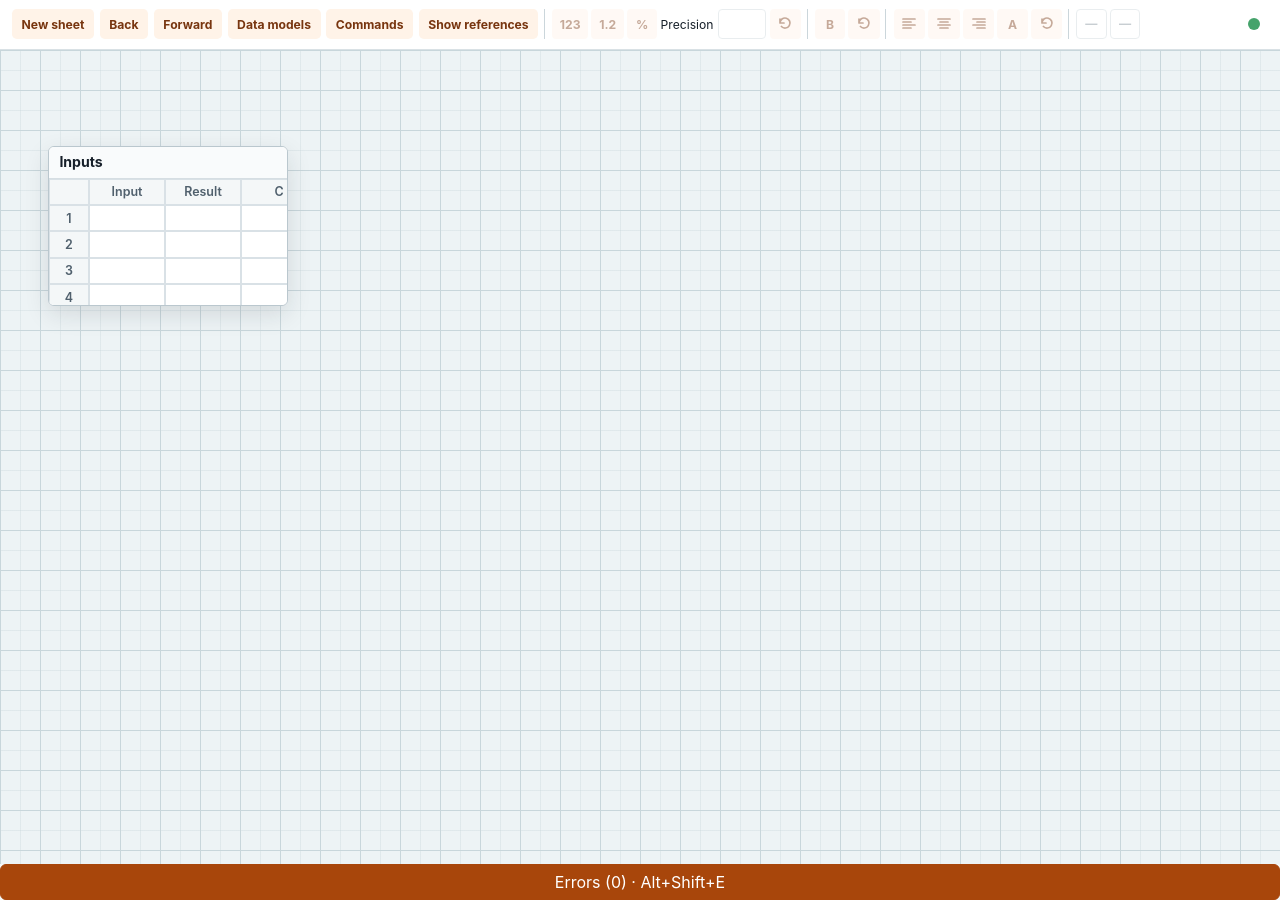
App grid clipboard integration › cancels an earlier pending cut when a calculated selection rejects a new cut
Click the cell named "Inputs A1 empty cell" at (127, 218), box [89,205,165,231]
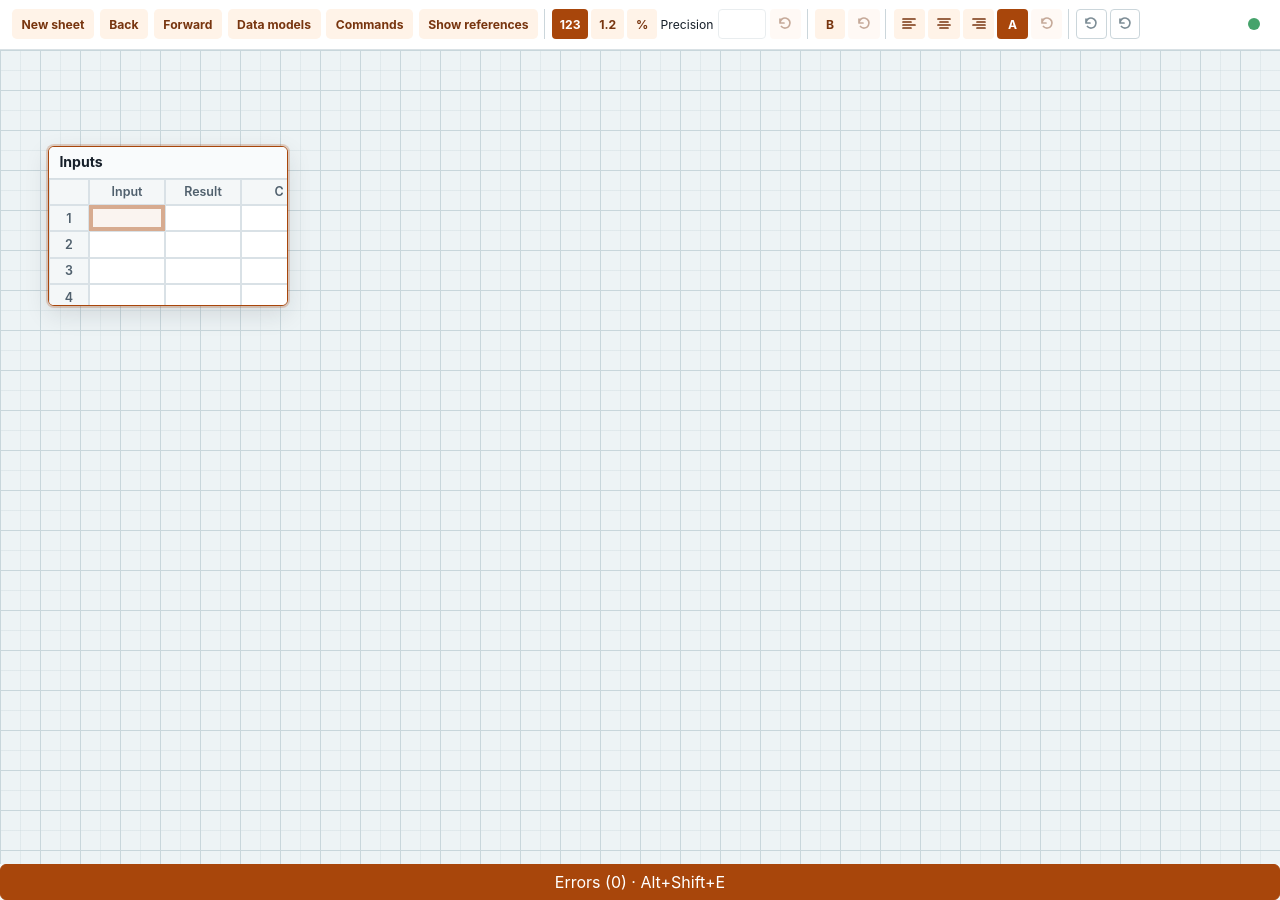
Result: the cell named "Inputs A1 empty cell" has attribute data-pending-cut="true" at [89,205,165,231]
Click the cell named "Inputs B1 calculated, read-only; edit it in Data models cell" at (203, 218), box [165,205,241,231]
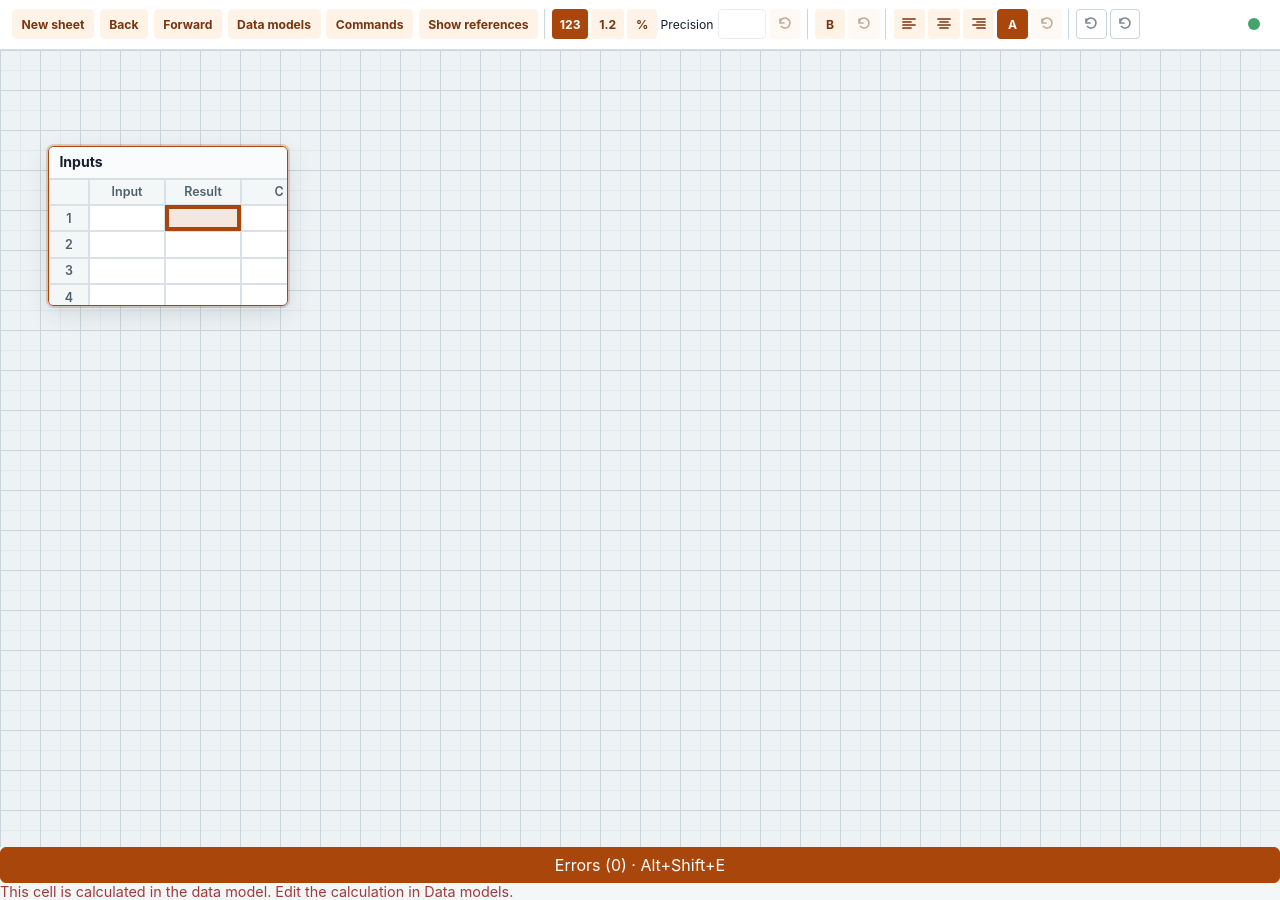
Result: the message shows "calculated in the data model" at [0,883,513,899]
